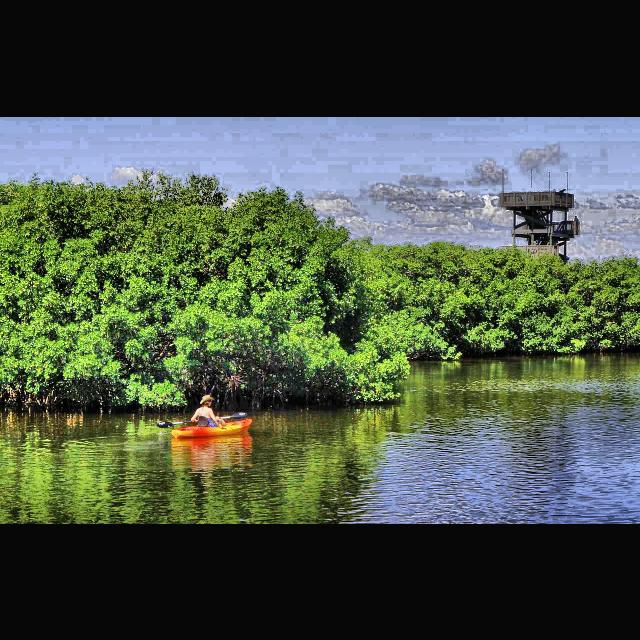kayak: (172, 417, 252, 439)
